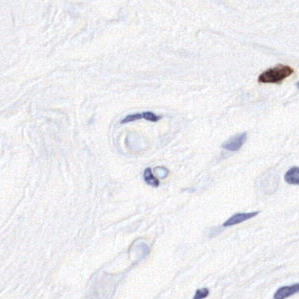Lymphocyte: (258, 64, 294, 85)
